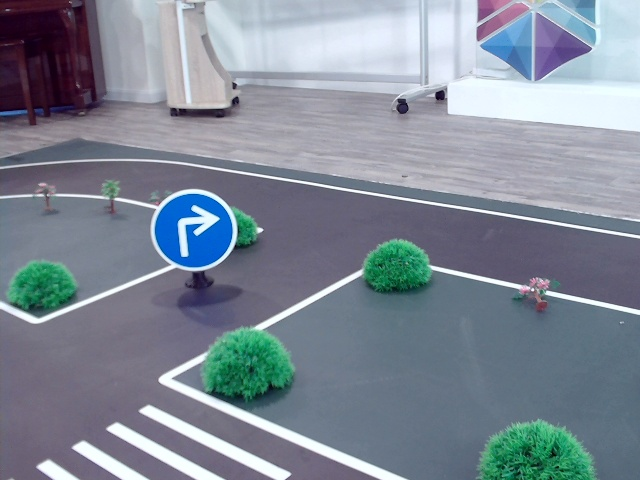turn_right: (169, 204, 221, 257)
